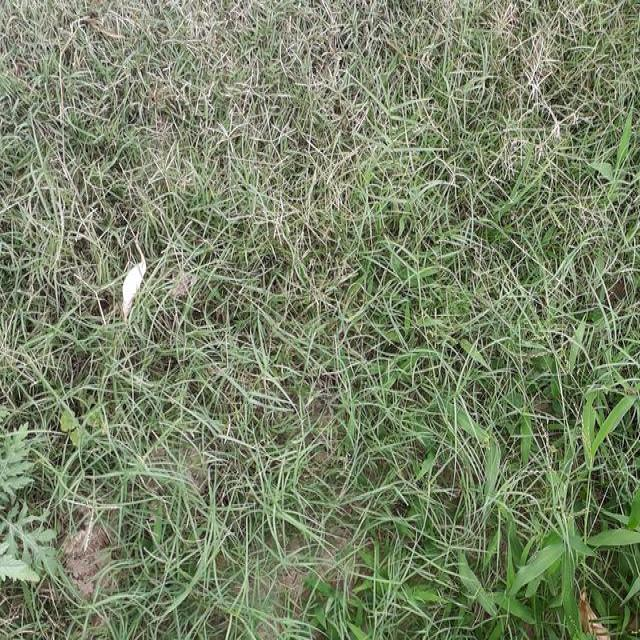weed: (3, 400, 342, 640), (376, 100, 640, 361), (377, 390, 640, 640)
